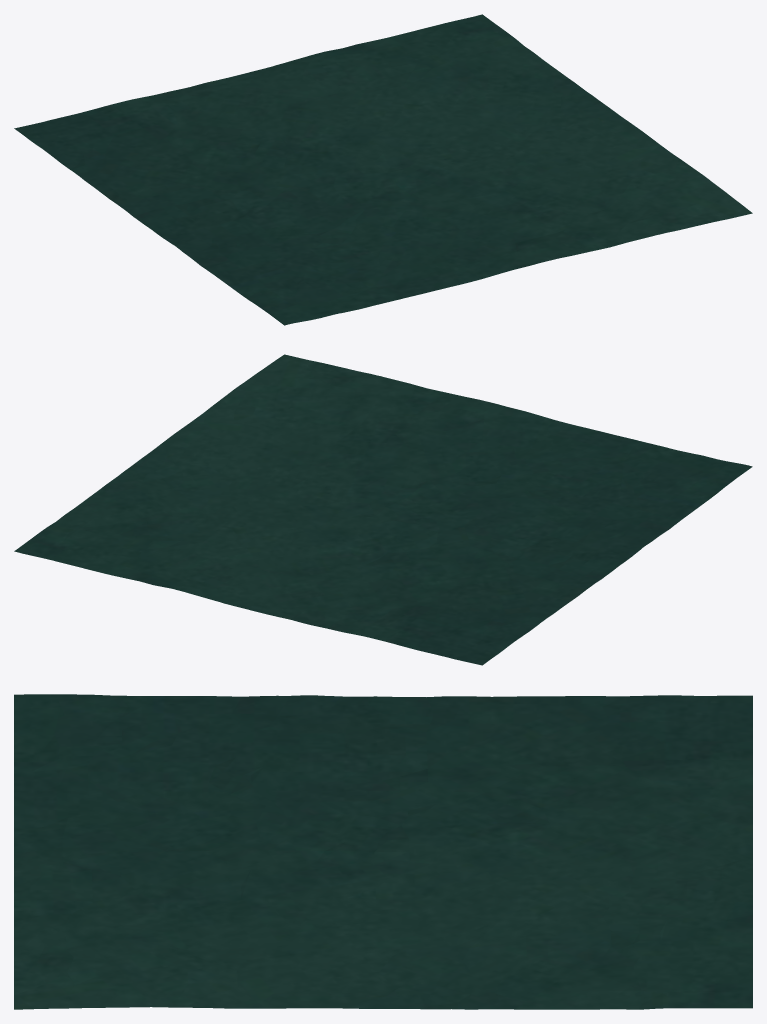
3 renders of one model, top to bottom at view 1: azimuth 30°, elevation 25°; view 2: azimuth 150°, elevation 25°; view 3: azimuth 270°, elevation 25°, orthographic. The views are drawn at different scales.
Size of the model in its own units: 104 by 0.7326 by 104.
Materials: 2 (2 with a texture image).
